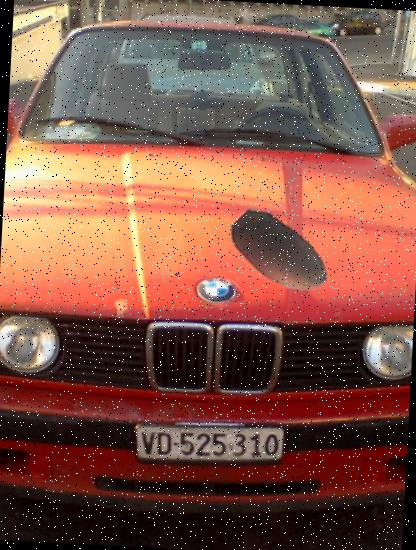Hazelnut: (223, 197, 338, 312)
